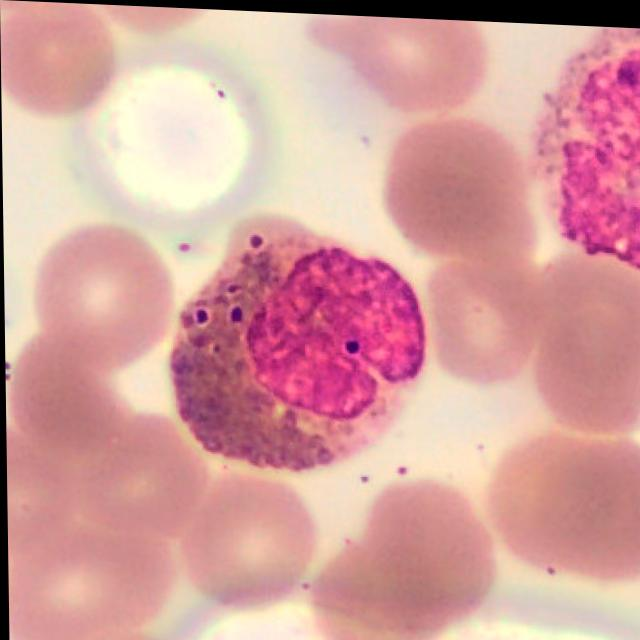Eosinofilo: (167, 211, 429, 472)
